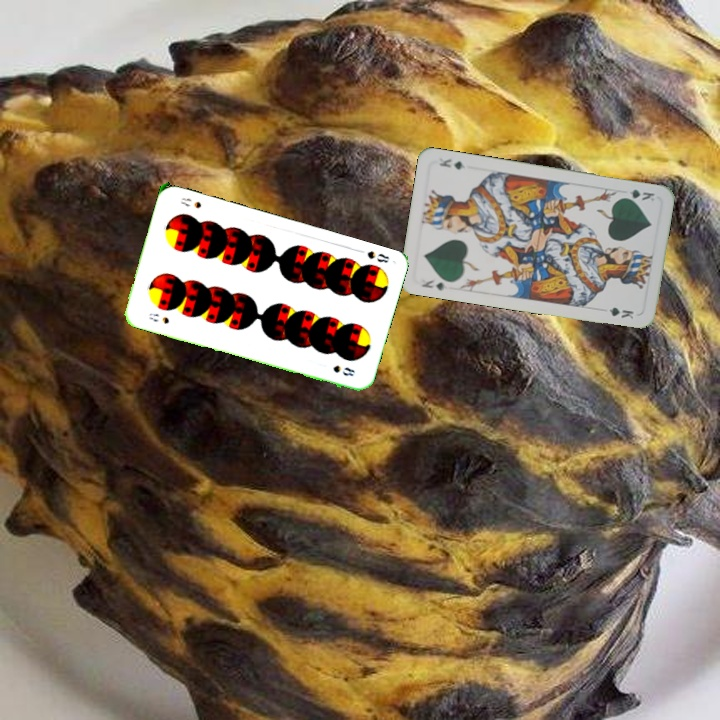GK: (617, 185, 657, 204), (418, 275, 447, 293)
S8: (363, 247, 392, 265), (145, 309, 172, 326)
